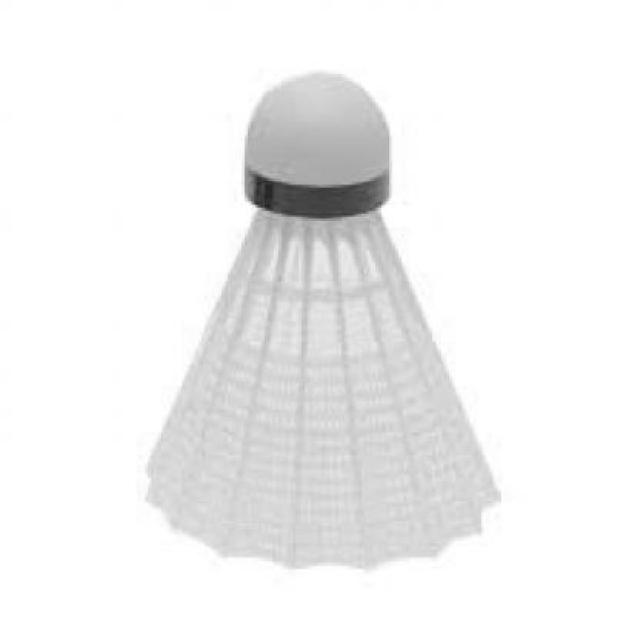Shuttlecock: (139, 68, 506, 570)
